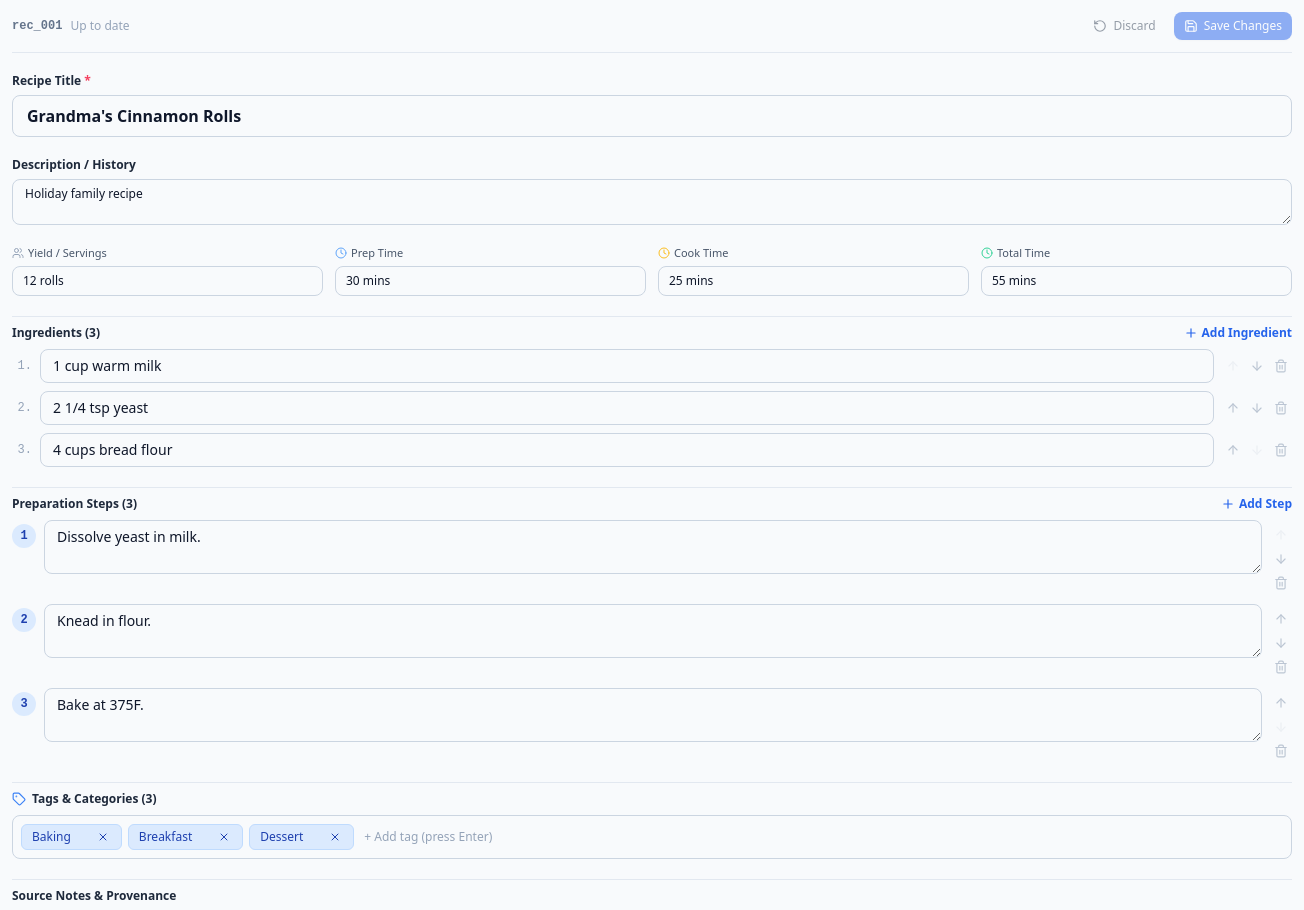
Test case: R4: Recipe Transcription Review & Inline Editor › RecipeForm fields and operations › persists recipe updates directly to backend SQLite via PUT /api/recipes/{recipe_id}
Replace the text in the field showing "Grandma's Cinnamon Rolls" with "Grandma's Ultimate Cinnamon Rolls" at point(652, 116), box [12,95,1292,137]
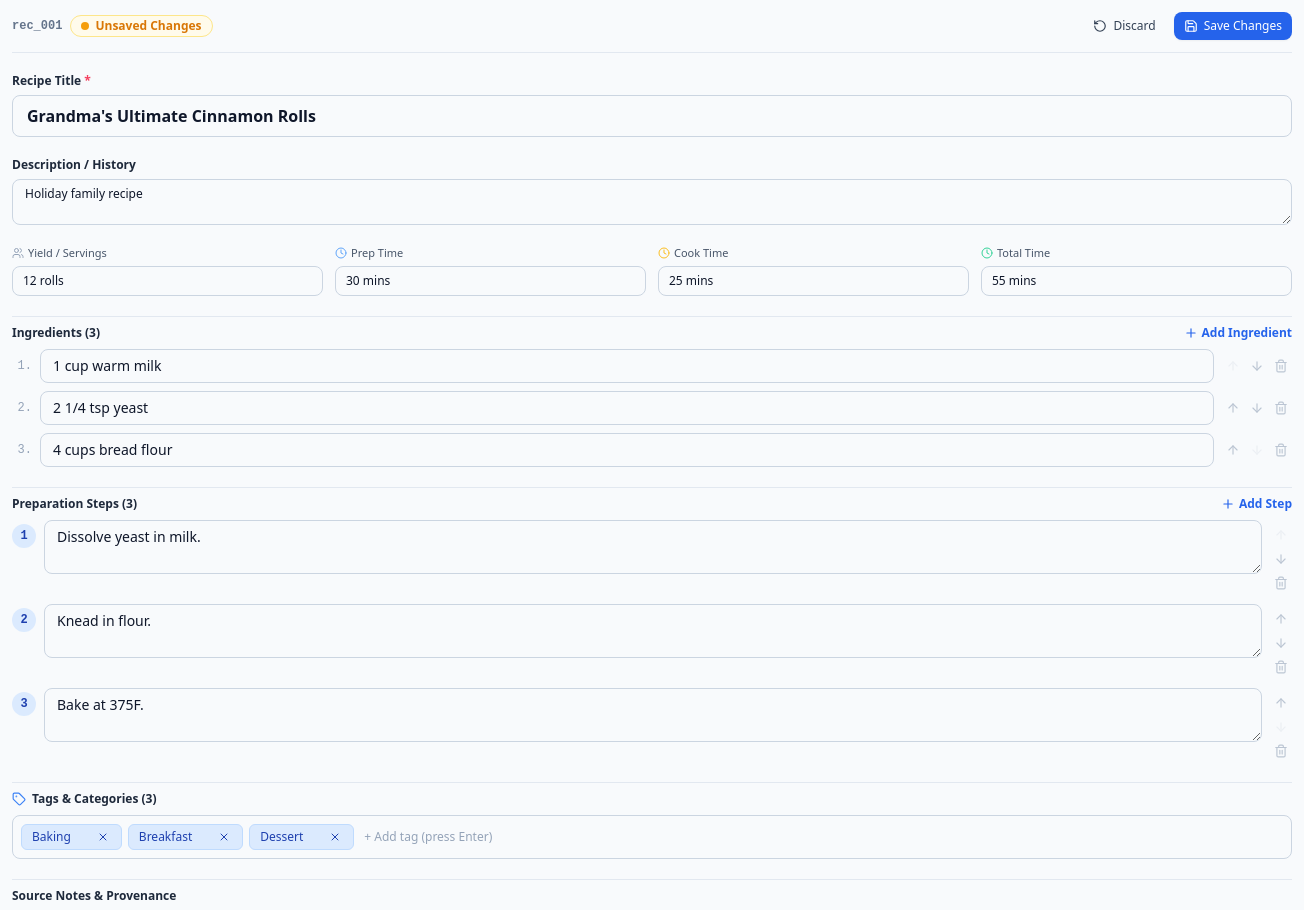
Click the button "Save Changes".
click(1233, 26)  # box [1174,12,1292,40]
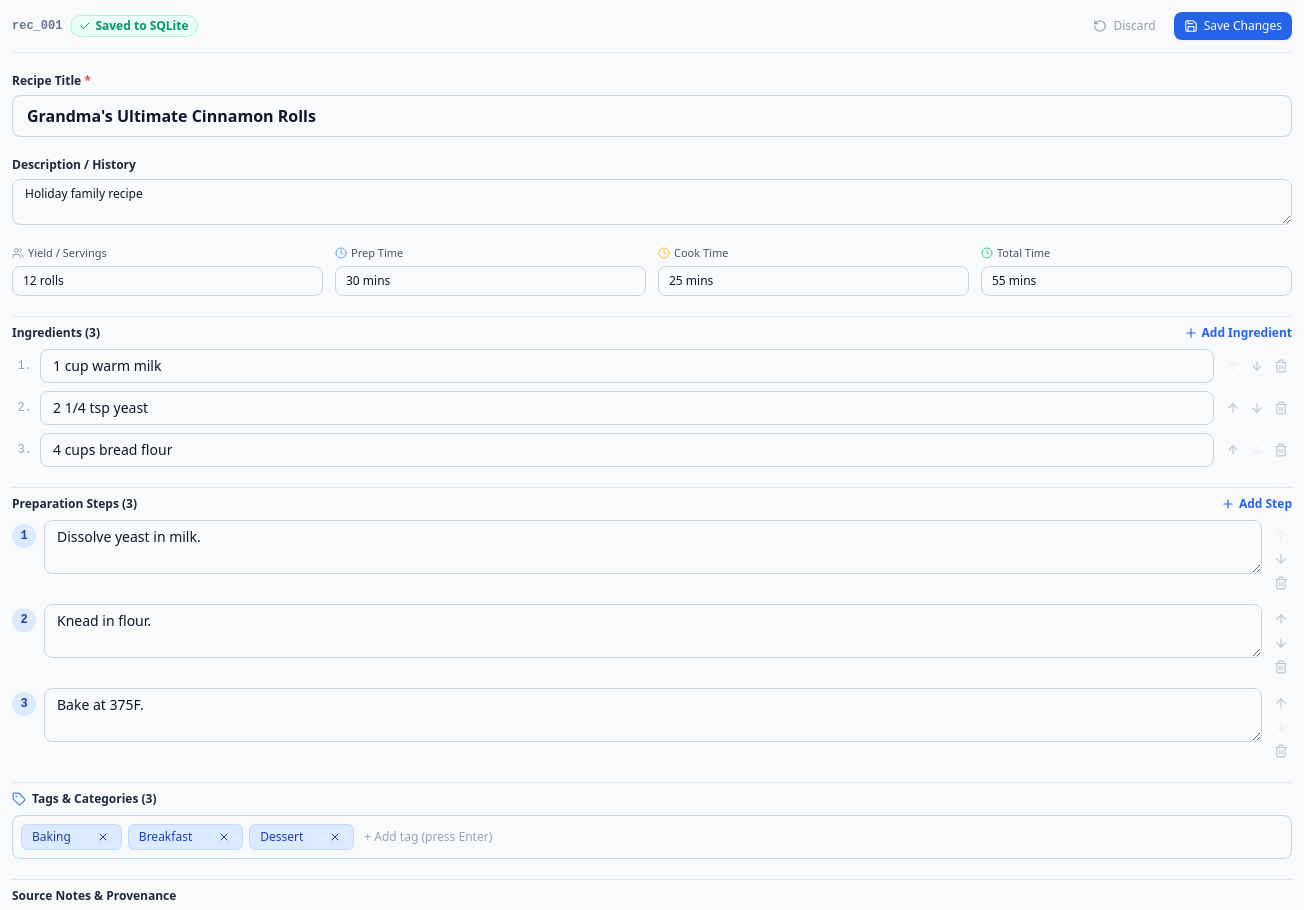
Check: the text "Saved to SQLite" is shown, box [70,15,198,37]
